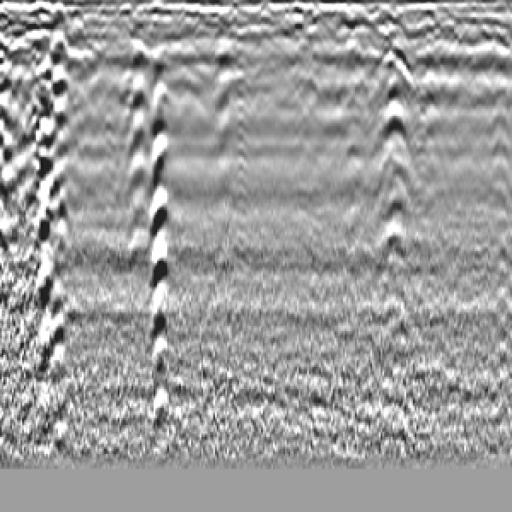metalic: (356, 40, 434, 299)
